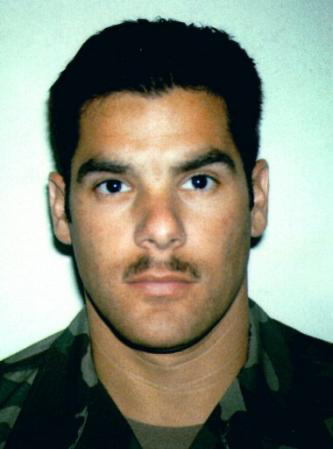Face: (56, 114, 263, 350)
